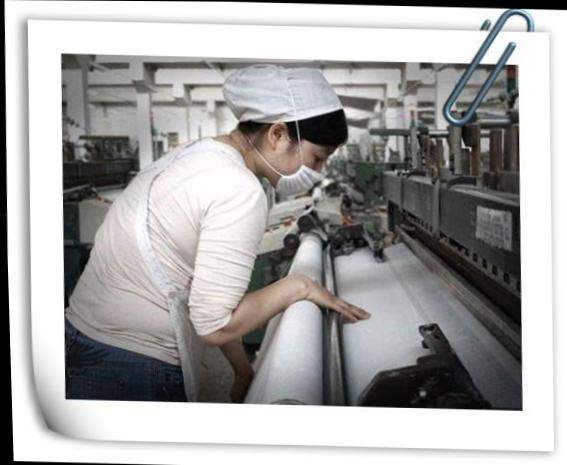WRONG: (259, 127, 332, 198)
